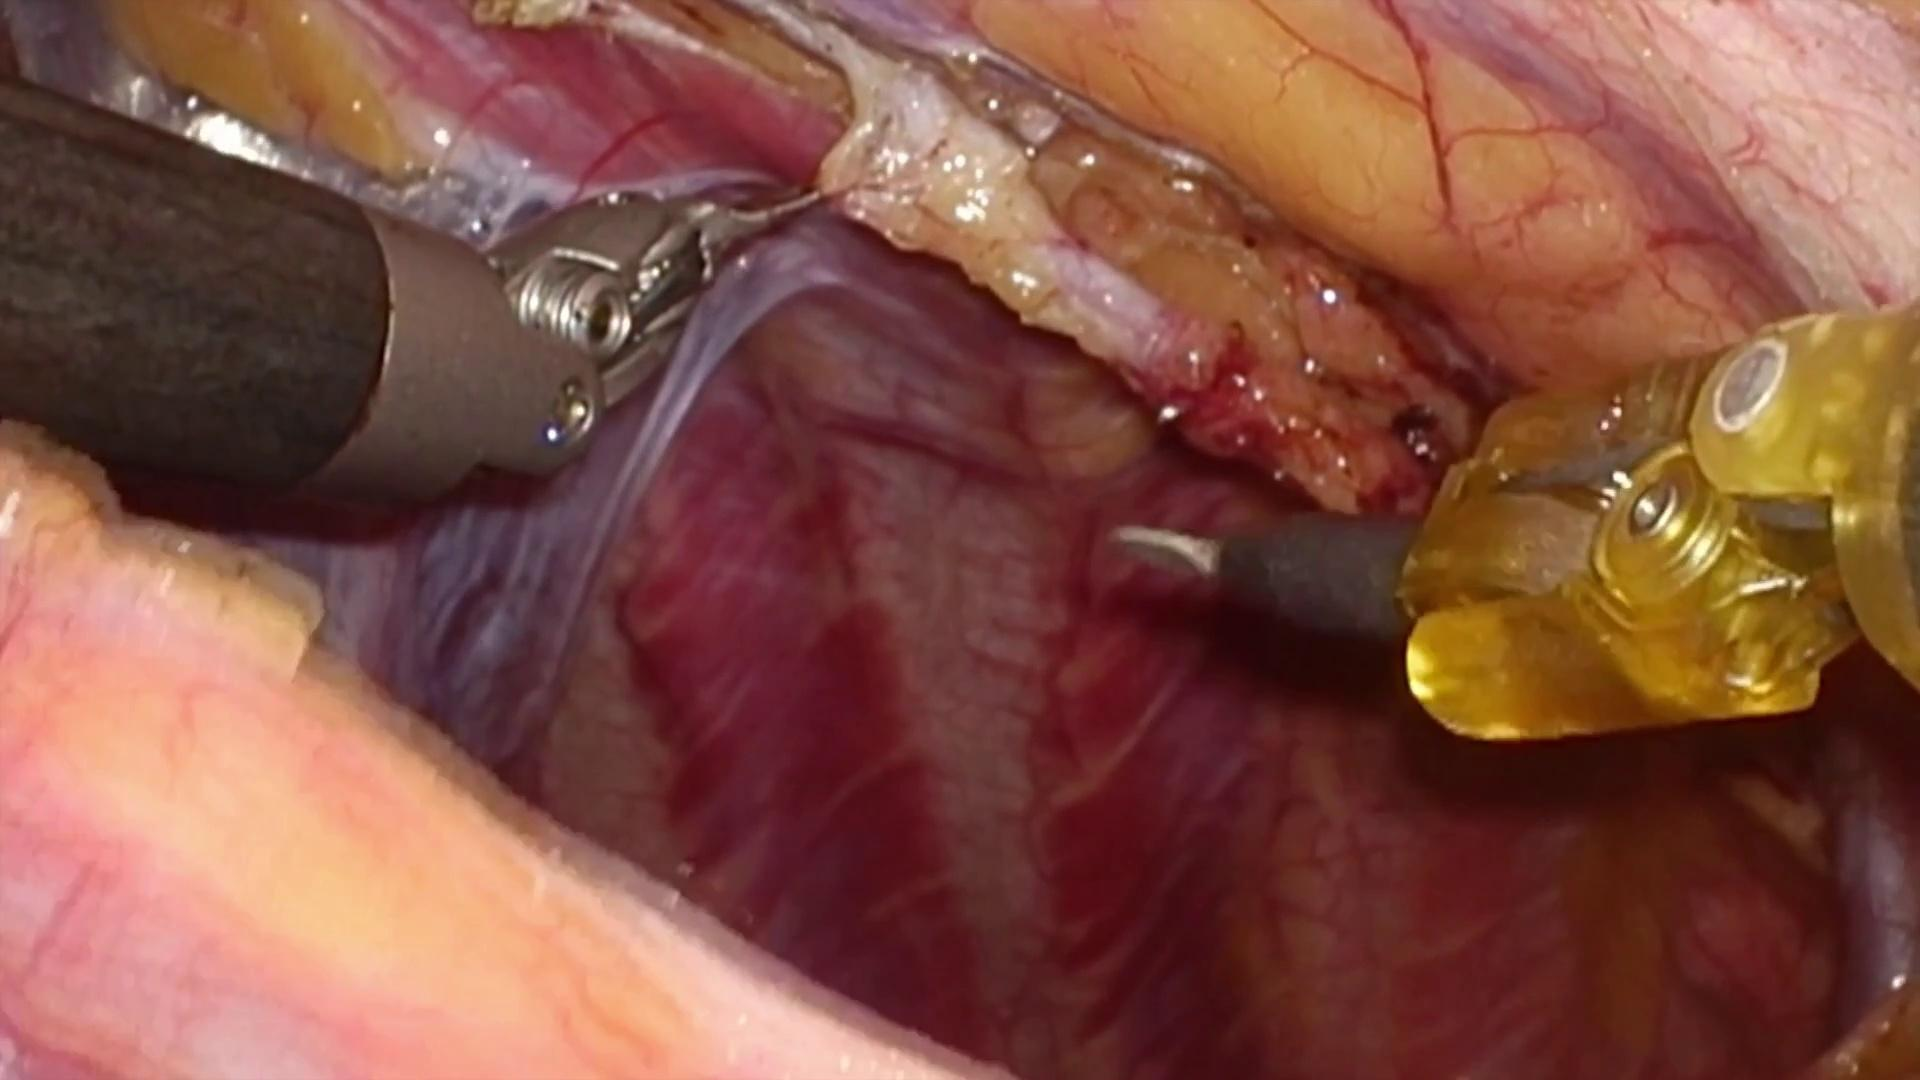Cautery_Spatula: (1112, 517, 1415, 684)
Debakey: (688, 174, 853, 261)
